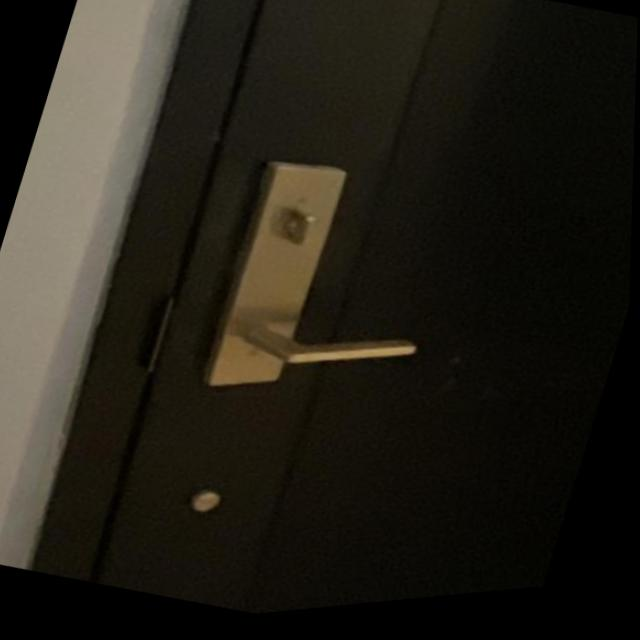door_handle: (187, 265, 455, 440)
